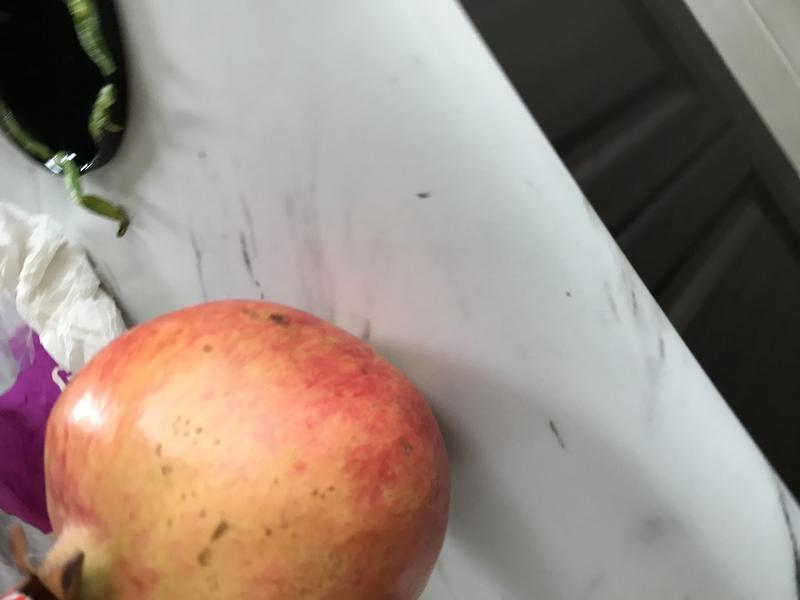pomegranate: (26, 292, 468, 600)
